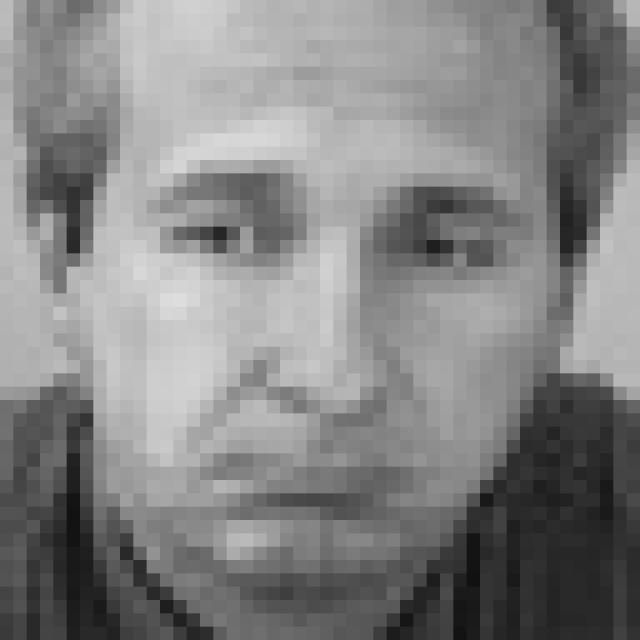sad: (134, 154, 535, 540)
